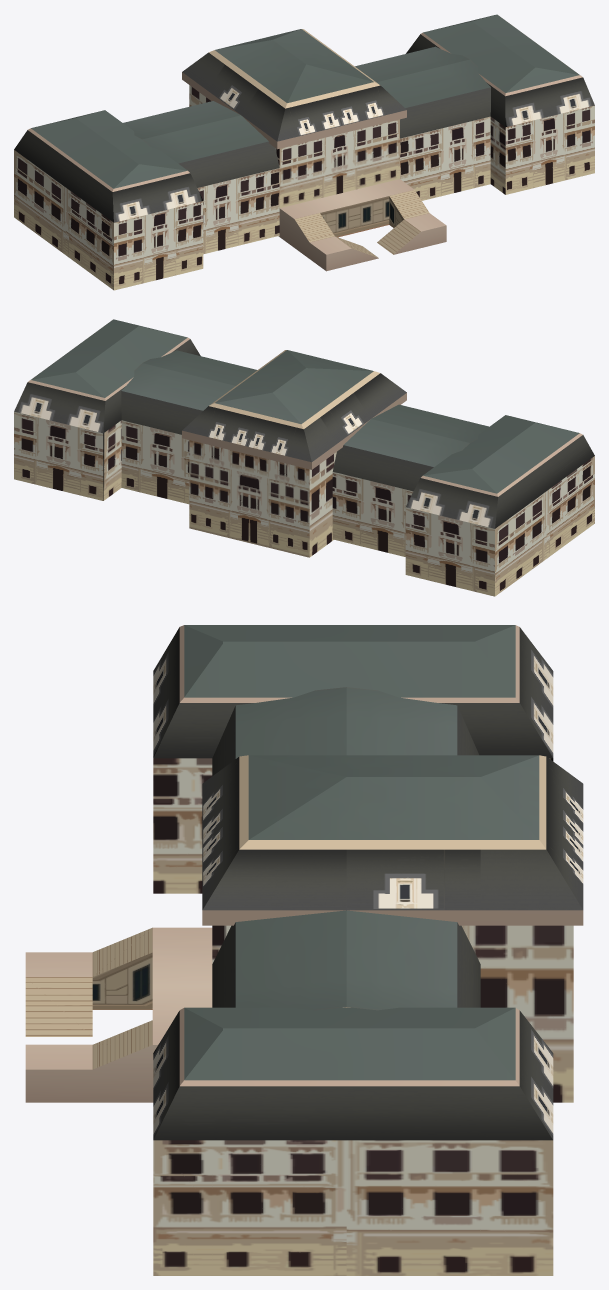
File: SM_JusticePalace_01.fbx
The picture shows the model from 3 angles, top to bottom: view 1: azimuth 30°, elevation 25°; view 2: azimuth 150°, elevation 25°; view 3: azimuth 270°, elevation 25°; orthographic projection. The views are drawn at different scales.
Visible parts, largest first — view 1: SM_JusticePalace_01; view 2: SM_JusticePalace_01; view 3: SM_JusticePalace_01.
Part boxes in pixels (x1,y1,x2,y2): SM_JusticePalace_01: [14, 14, 594, 290]; SM_JusticePalace_01: [14, 319, 594, 596]; SM_JusticePalace_01: [25, 625, 583, 1275].
Bounding box in the file's own units: 80 × 21.21 × 40.18.
